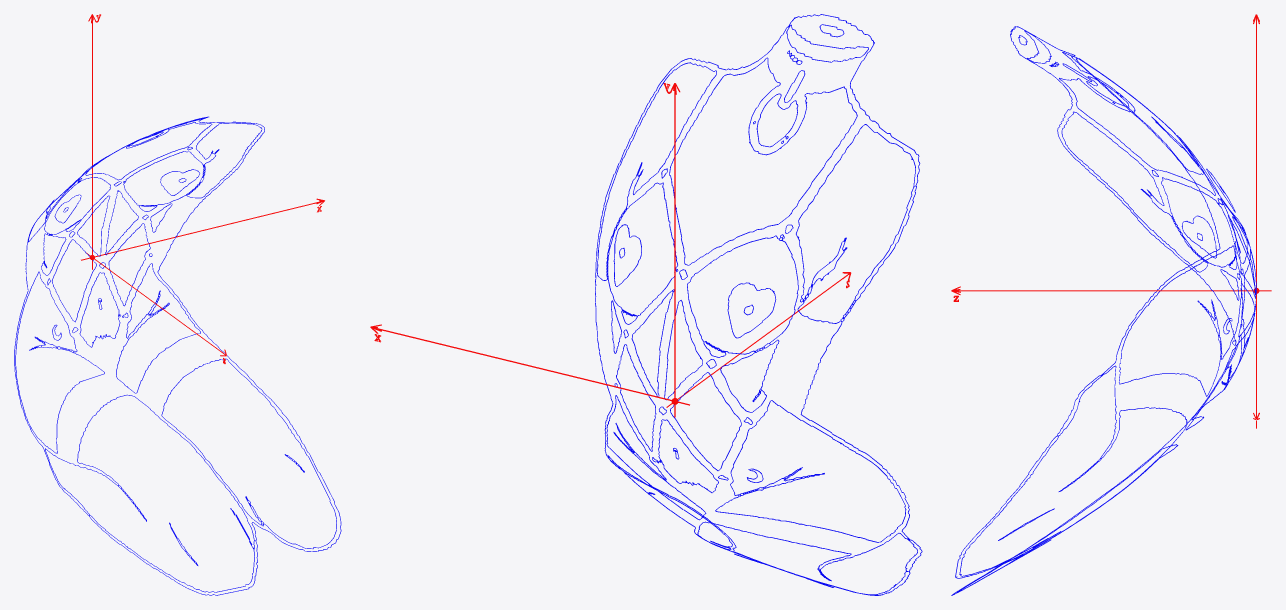
The picture shows the model from 3 angles, left to right: view 1: azimuth 30°, elevation 25°; view 2: azimuth 150°, elevation 25°; view 3: azimuth 270°, elevation 25°; orthographic projection. The views are drawn at different scales.
Bounding box in the file's own units: 1.53 × 1.99 × 1.05.
